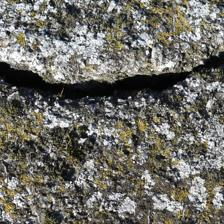Crack: (2, 24, 216, 91)
